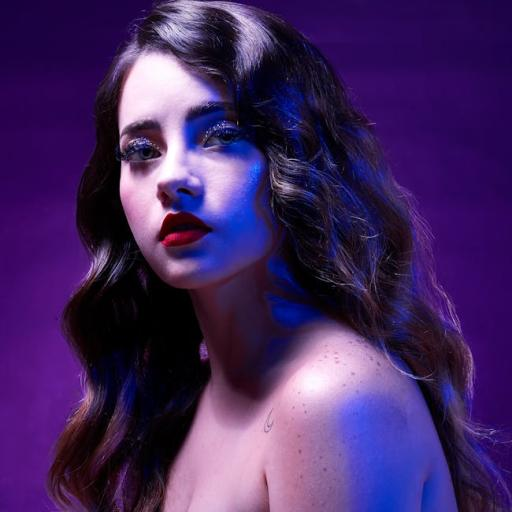lipstick: (160, 212, 211, 246)
